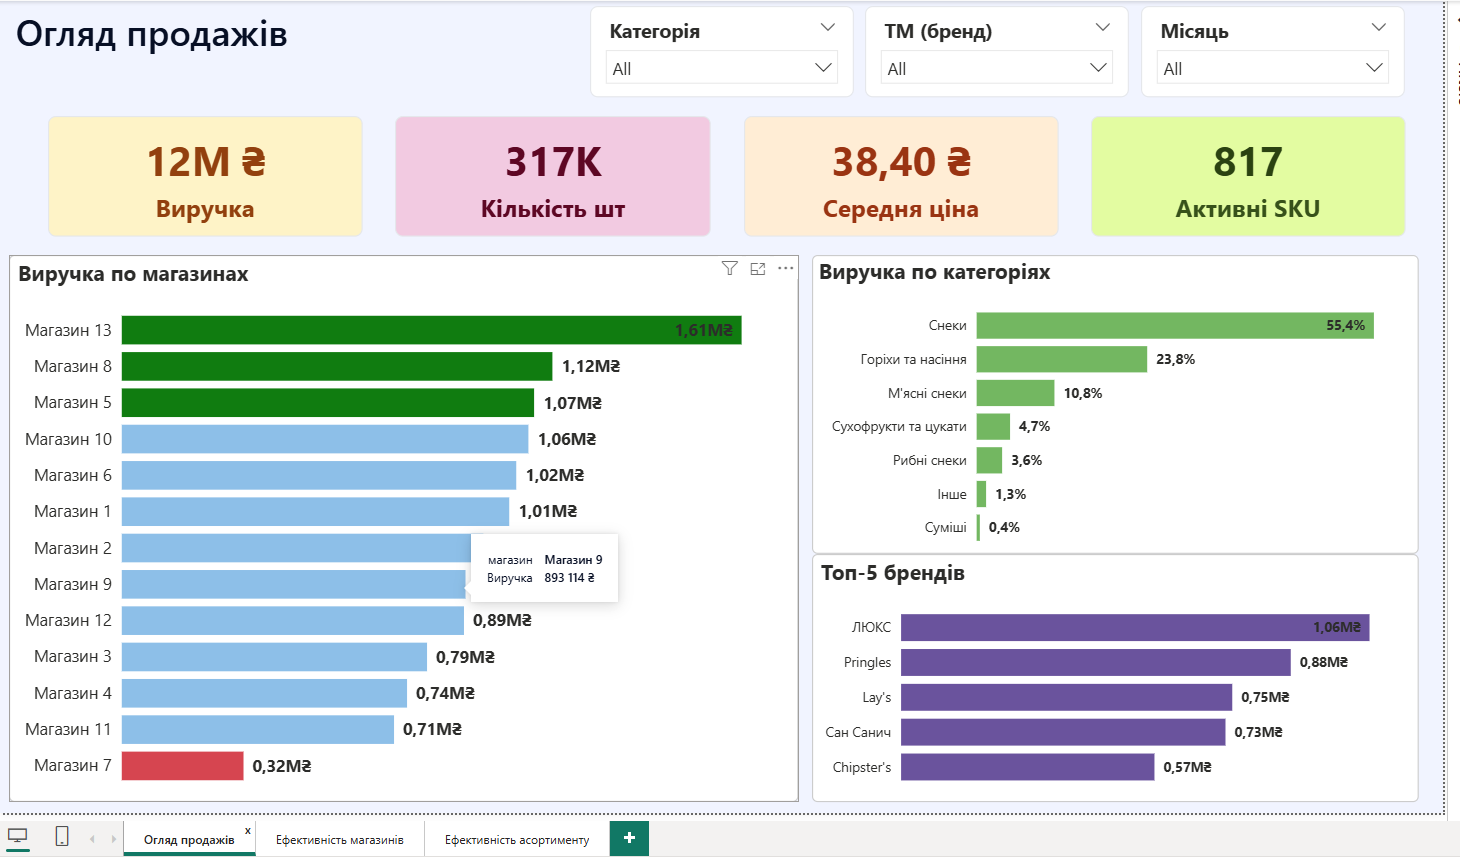

Layout of this report page (visuals, bound fields, positions):
{"tool":"powerbi","page":{"name":"Огляд продажів","canvas":[1280,720],"ordinal":0},"visuals":[{"type":"card","title":"Виручка","fields":{"Values":["_Measures.Виручка"]},"box":[42.9,102.2,278.6,107.1],"z":0},{"type":"card","title":"Виручка","fields":{"Values":["_Measures.Кількість шт"]},"box":[350.5,102.2,280,107.1],"z":1000},{"type":"card","title":"Виручка","fields":{"Values":["_Measures.Середня ціна"]},"box":[659.5,102.2,278.6,107.1],"z":2000},{"type":"card","title":"Виручка","fields":{"Values":["_Measures.Активні SKU"]},"box":[967.1,102.2,278.6,107.1],"z":3000},{"type":"clusteredBarChart","title":"Виручка по магазинах","fields":{"Category":["продажі_всі.магазин"],"Y":["_Measures.Виручка"]},"box":[8.3,225,700,485],"z":4000},{"type":"barChart","title":"   Виручка по категоріях","fields":{"Category":["довідник.Категорія"],"Y":["_Measures.Виручка"]},"box":[720,225,538.3,265],"z":5000},{"type":"clusteredBarChart","title":"Топ-5 брендів","fields":{"Category":["довідник.ТМ"],"Y":["_Measures.Виручка"]},"box":[720,490,538.3,220],"z":6000},{"type":"slicer","fields":{"Values":["довідник.Категорія"]},"box":[522.9,4.3,234.3,81.4],"z":7000},{"type":"slicer","fields":{"Values":["довідник.ТМ"]},"box":[767.1,4.3,234.3,81.4],"z":8000},{"type":"textbox","box":[8.6,0,428.6,62.9],"z":9000},{"type":"slicer","fields":{"Values":["DimDate.Місяць"]},"box":[1011.4,4.3,234.3,81.4],"z":10000}]}

Visuals, with their boxes on the page's 1280x720 design canvas (x1, y1, x2, y2). These are canvas units, not pixel positions in the 1460x857 screenshot, which may show the page scaled, cropped or inside an application window:
"Виручка" card: crop(43, 102, 322, 209)
"Виручка" card: crop(350, 102, 630, 209)
"Виручка" card: crop(660, 102, 938, 209)
"Виручка" card: crop(967, 102, 1246, 209)
"Виручка по магазинах" clusteredBarChart: crop(8, 225, 708, 710)
"   Виручка по категоріях" barChart: crop(720, 225, 1258, 490)
"Топ-5 брендів" clusteredBarChart: crop(720, 490, 1258, 710)
slicer - довідник.Категорія: crop(523, 4, 757, 86)
slicer - довідник.ТМ: crop(767, 4, 1001, 86)
textbox: crop(9, 0, 437, 63)
slicer - DimDate.Місяць: crop(1011, 4, 1246, 86)
